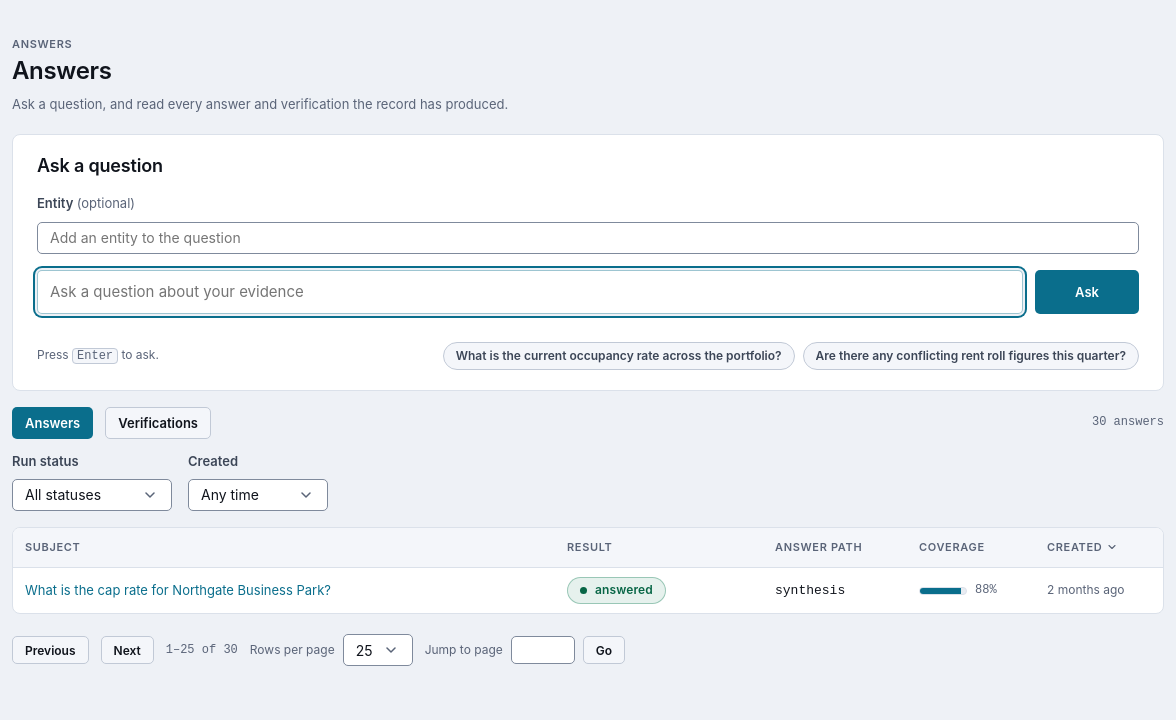
Test: AnswersPage › resets paging to the first page in the same patch as applying a filter, and keeps the URL clean at defaults
Check: the text "What is the cap rate for Northgate Business Park?" is shown, box [25,582,331,598]
Click the button "Next" at (127, 650), box [100,636,154,664]
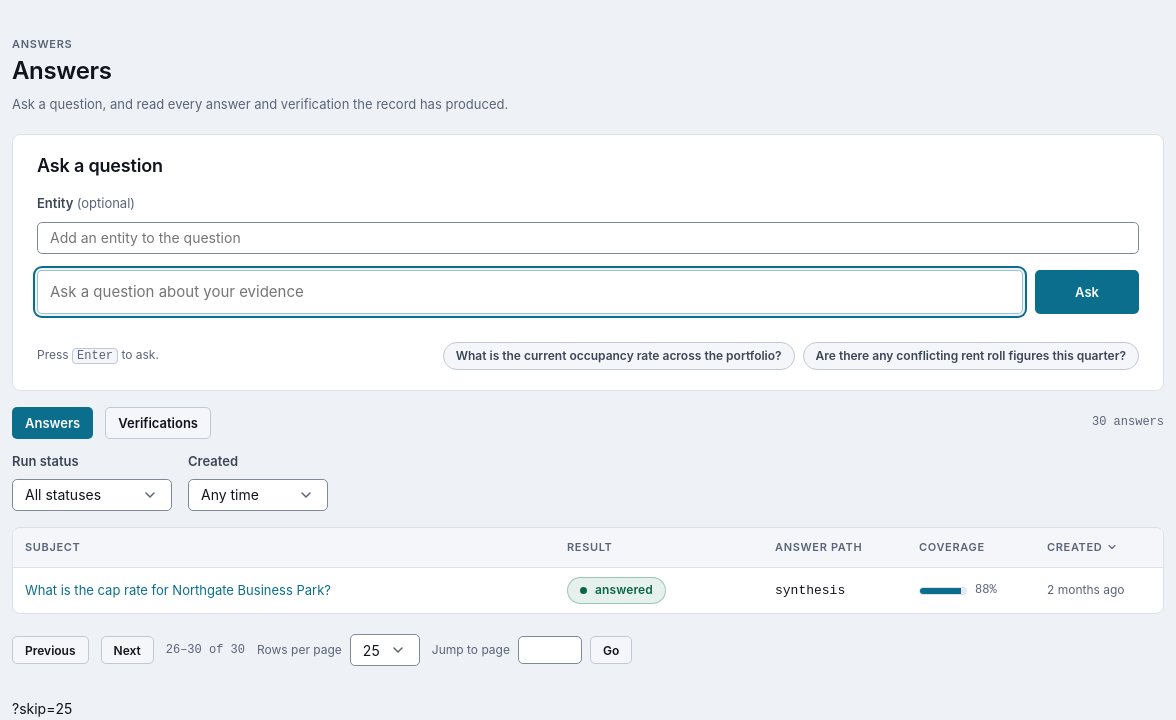
Check: the text "26–30 of 30" is shown, box [166,641,245,659]
Select "Failed" in the dropdown labelled "Run status" at (92, 495), box [12,479,172,511]
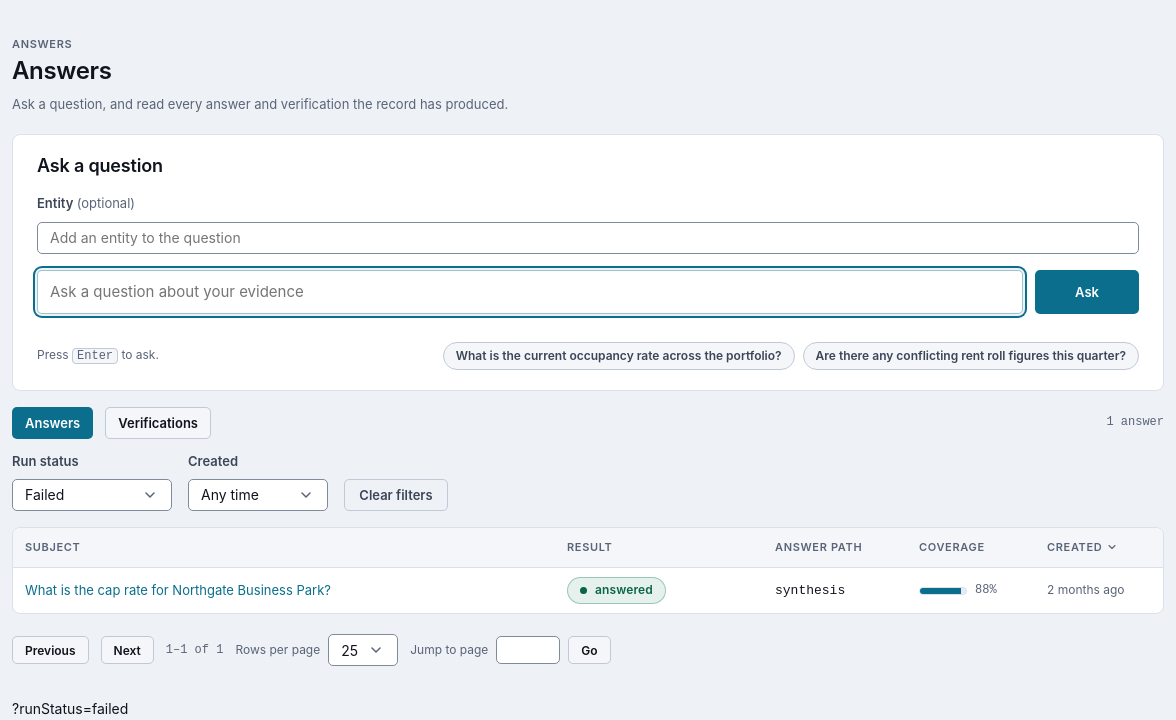
Check: the text "1–1 of 1" is shown, box [166,641,223,659]
Check: the text named "current search" reads "?runStatus=failed", box [12,700,128,717]
